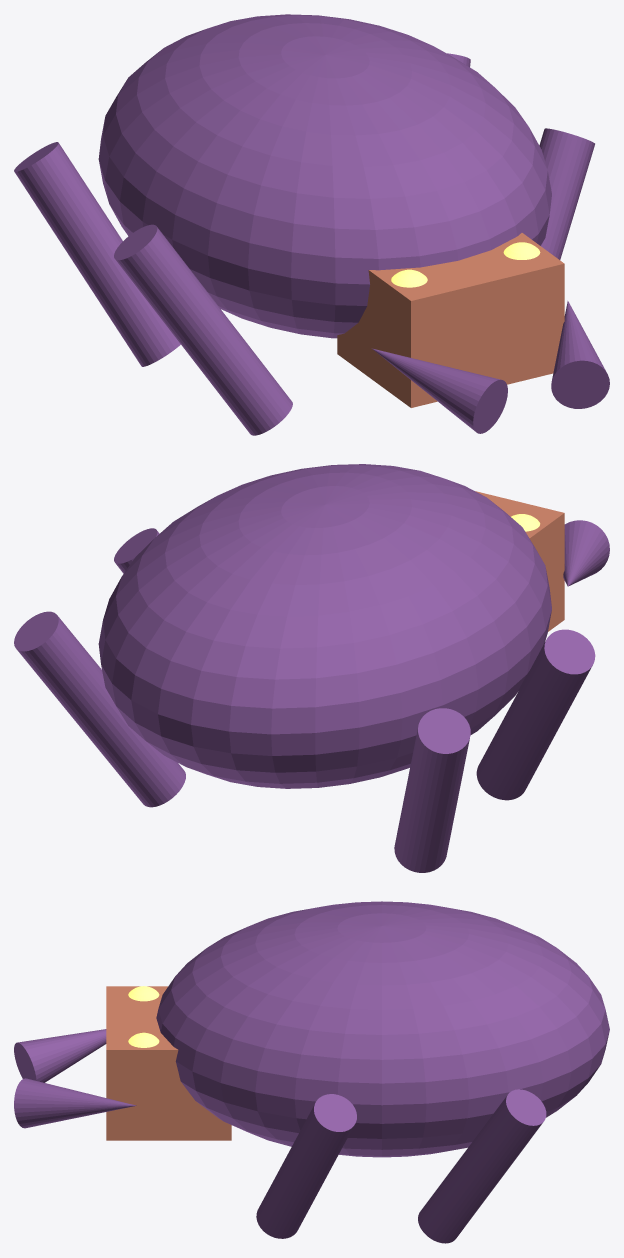
Rendered from beetle.glb.
3 views of the same model, one above another, from view 1: azimuth 30°, elevation 25°; view 2: azimuth 150°, elevation 25°; view 3: azimuth 270°, elevation 25° (orthographic). The views are drawn at different scales.
Parts seen in each view (by area): view 1: Carapace, Head, Leg_FL, Leg_BL, Mandible_L, Leg_FR, Mandible_R; view 2: Carapace, Leg_BR, Leg_FL, Leg_BL, Head, Mandible_L, Leg_FR; view 3: Carapace, Head, Leg_BR, Leg_FR, Mandible_R, Mandible_L.
Part boxes in pixels (bbox=[...]): Carapace: bbox=[98, 14, 551, 338]; Head: bbox=[337, 233, 564, 407]; Leg_FL: bbox=[114, 224, 292, 435]; Leg_BL: bbox=[14, 142, 180, 366]; Mandible_L: bbox=[372, 348, 507, 433]; Leg_FR: bbox=[539, 128, 594, 259]; Mandible_R: bbox=[551, 301, 609, 408]; Carapace: bbox=[98, 464, 551, 788]; Leg_BR: bbox=[14, 611, 185, 807]; Leg_FL: bbox=[476, 629, 595, 800]; Leg_BL: bbox=[394, 708, 470, 872]; Head: bbox=[475, 491, 564, 631]; Mandible_L: bbox=[563, 520, 609, 586]; Leg_FR: bbox=[114, 528, 159, 573]; Carapace: bbox=[156, 901, 609, 1157]; Head: bbox=[106, 986, 231, 1140]; Leg_BR: bbox=[418, 1089, 546, 1243]; Leg_FR: bbox=[256, 1094, 356, 1238]; Mandible_R: bbox=[14, 1078, 136, 1128]; Mandible_L: bbox=[14, 1029, 106, 1082].
Bounding box in the file's own units: 1.85 × 1.13 × 2.38.
